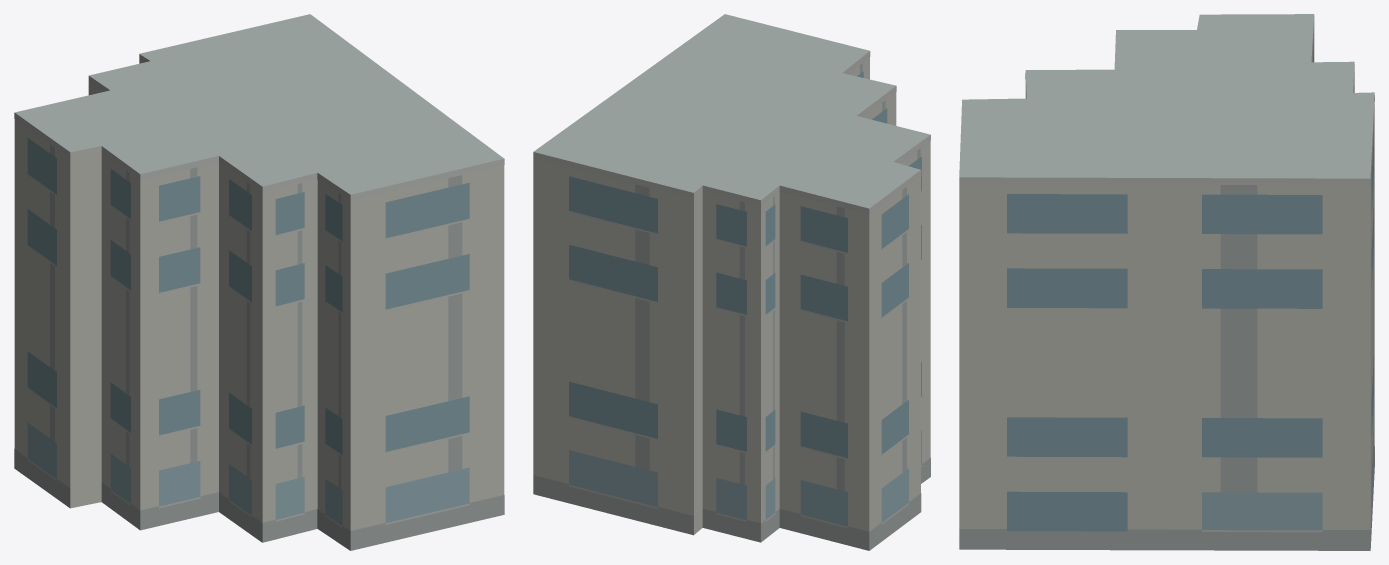
The model's file is survey-upis-32563118.glb.
The picture shows the model from 3 angles, left to right: view 1: azimuth 30°, elevation 25°; view 2: azimuth 150°, elevation 25°; view 3: azimuth 270°, elevation 25°; orthographic projection. The views are drawn at different scales.
Visible parts, largest first — view 1: survey-upis-32563118.tmp; view 2: survey-upis-32563118.tmp; view 3: survey-upis-32563118.tmp.
Boxes of the visible parts, x1=… form: survey-upis-32563118.tmp: x1=14, y1=14, x2=504, y2=550; survey-upis-32563118.tmp: x1=533, y1=14, x2=930, y2=550; survey-upis-32563118.tmp: x1=959, y1=14, x2=1374, y2=550.
Bounding box in the file's own units: 12.77 × 13.45 × 13.62.
